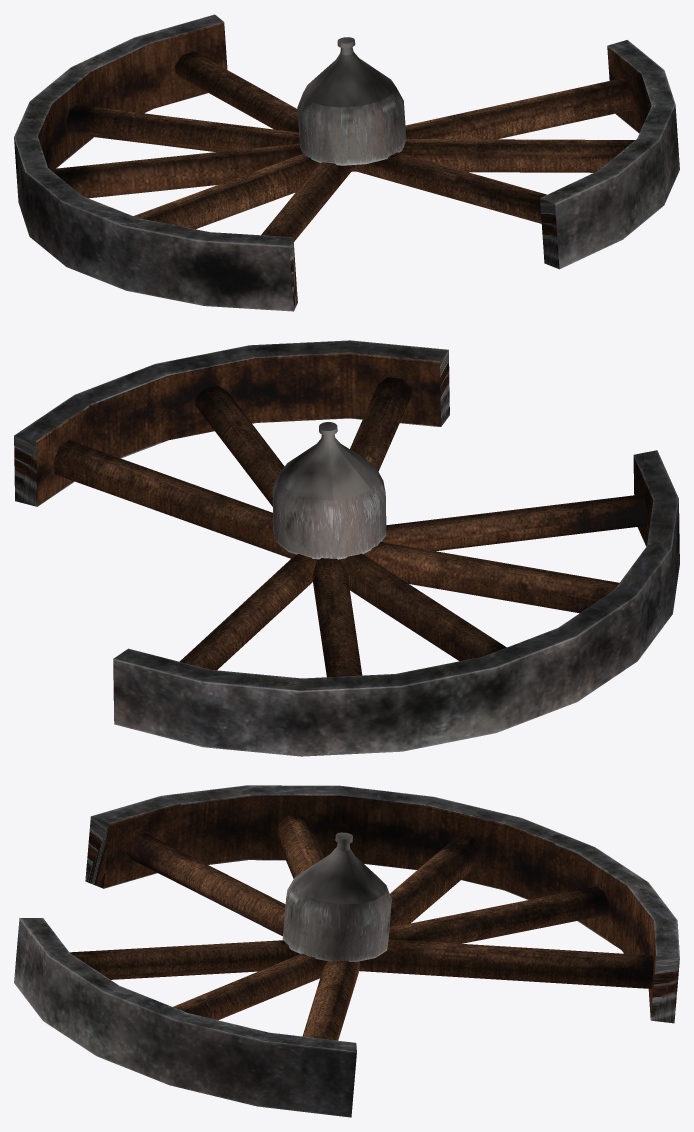
Rendered from Rueda2.fbx.
3 renders of one model, top to bottom at view 1: azimuth 30°, elevation 25°; view 2: azimuth 150°, elevation 25°; view 3: azimuth 270°, elevation 25°, orthographic. The views are drawn at different scales.
Visible parts, largest first — view 1: Wheel001; view 2: Wheel001; view 3: Wheel001.
Part boxes in pixels (bbox=[...]): Wheel001: bbox=[14, 14, 679, 311]; Wheel001: bbox=[14, 340, 679, 756]; Wheel001: bbox=[14, 785, 679, 1117].
Size of the model in its own units: 182 by 51.76 by 181.
